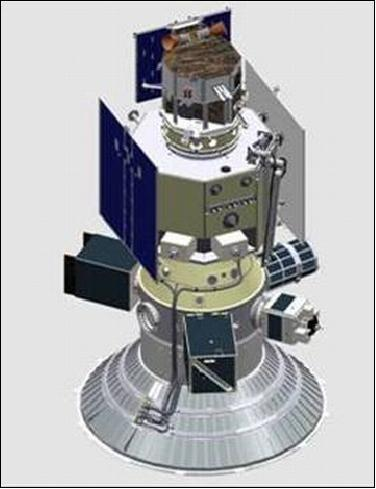antenna: (79, 334, 326, 476)
body: (129, 104, 277, 388)
solar: (244, 56, 308, 244), (98, 93, 160, 286), (133, 8, 232, 105), (72, 260, 129, 312), (78, 233, 137, 272)
thruster: (160, 35, 181, 52), (208, 22, 230, 37)
